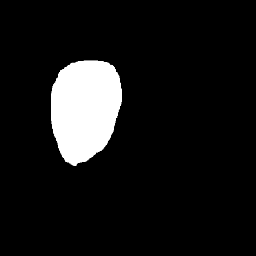mass: (46, 64, 118, 166)
